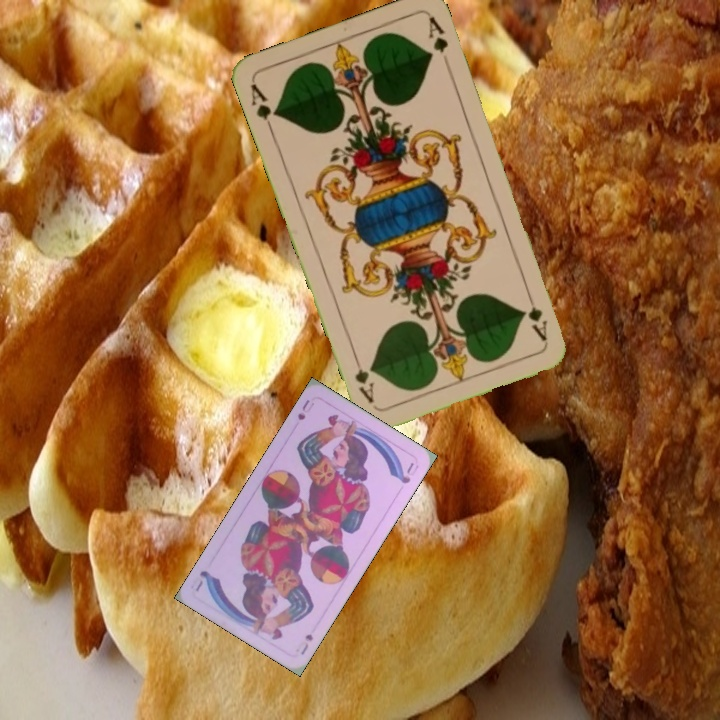GA: (246, 79, 281, 136), (522, 287, 550, 344)
SU: (293, 395, 317, 423), (297, 630, 316, 658)
